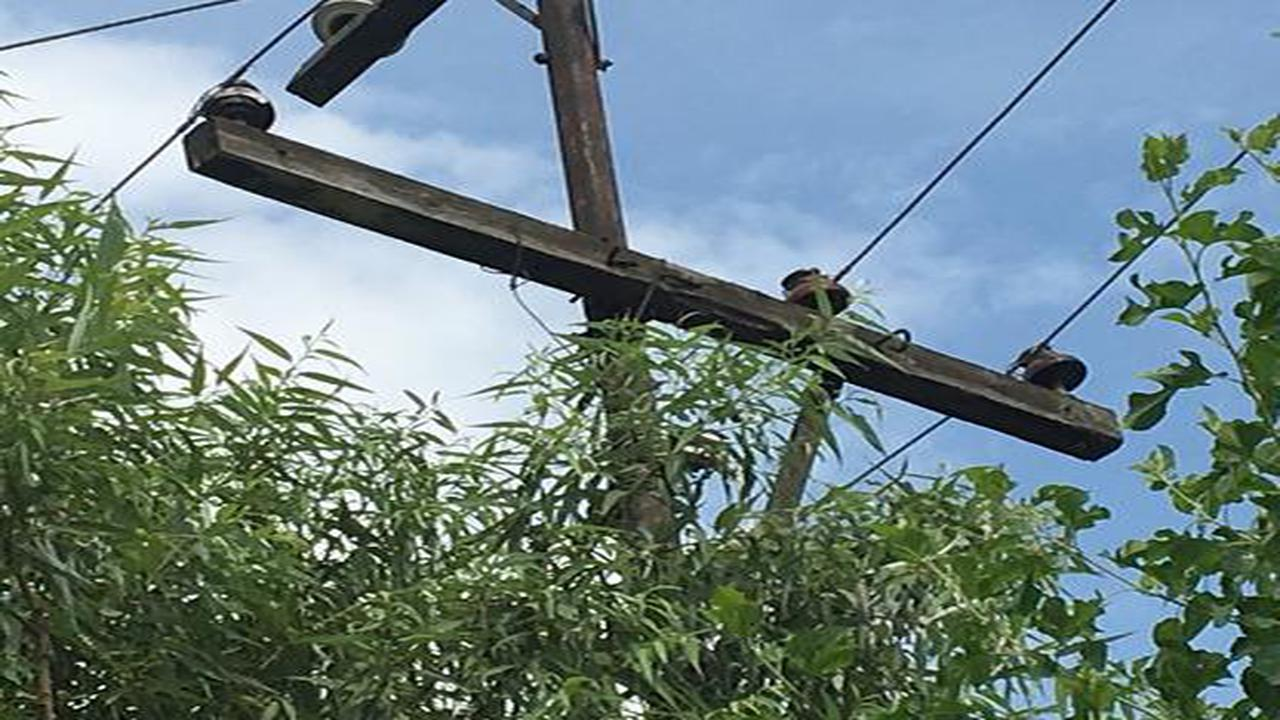defect_pin: (197, 75, 278, 133)
insulator_pin: (779, 262, 855, 319), (1018, 339, 1092, 397)
